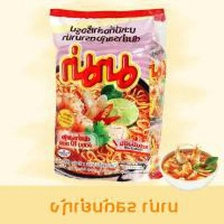snack: (42, 1, 177, 185)
